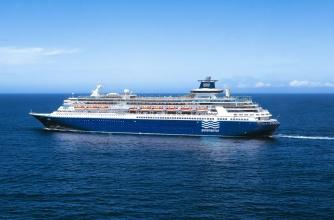youlun: (31, 78, 295, 136)
